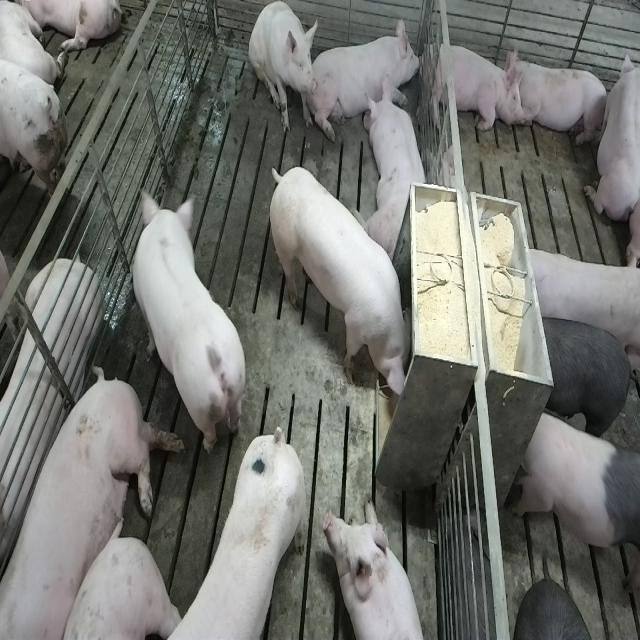Feeding: (272, 164, 421, 404)
Lateral_lying: (2, 367, 184, 640), (0, 253, 103, 588)
Sitting: (249, 2, 319, 137)
Standing: (139, 426, 312, 640), (127, 190, 245, 460), (518, 402, 638, 572), (518, 240, 638, 376), (540, 312, 634, 437)
Sternal_lying: (329, 501, 431, 640), (314, 14, 424, 141), (364, 79, 431, 258), (583, 41, 637, 228), (509, 51, 610, 148), (426, 36, 520, 135)
